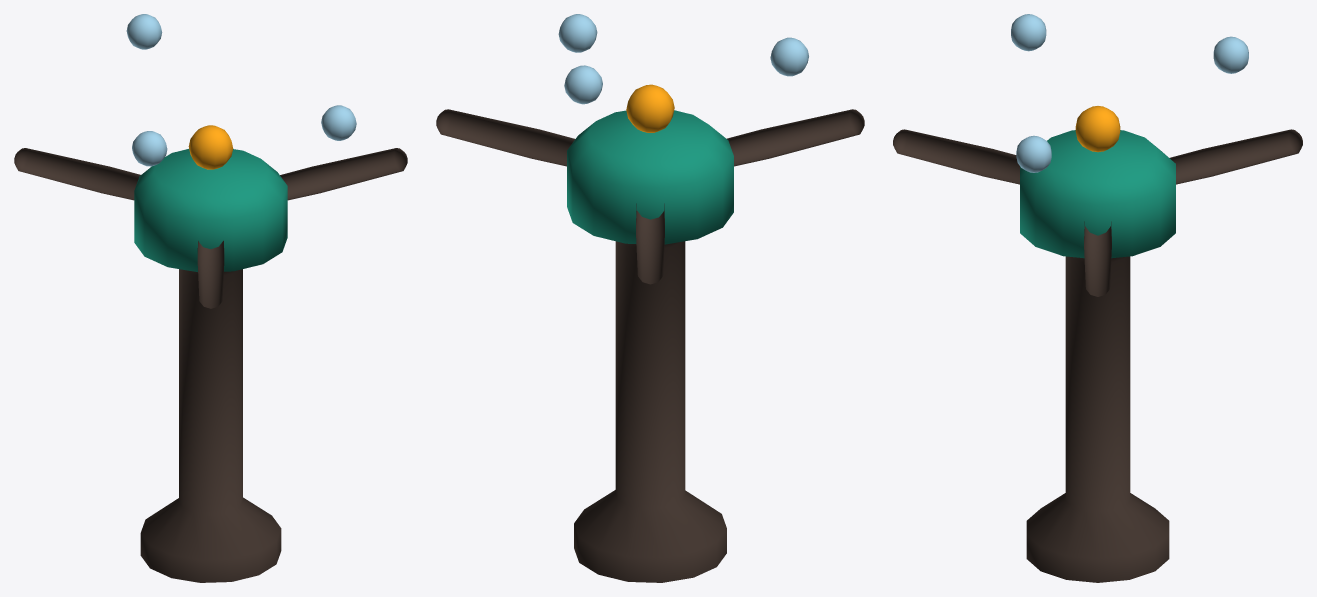
File: sprinkler.glb
3 views of the same model, side by side, from view 1: azimuth 30°, elevation 25°; view 2: azimuth 150°, elevation 25°; view 3: azimuth 270°, elevation 25° (orthographic). The views are drawn at different scales.
Parts seen in each view (by area): view 1: Sprinkler, SprinklerArme; view 2: Sprinkler, SprinklerArme; view 3: Sprinkler, SprinklerArme.
Part boxes in pixels (x1=…): Sprinkler: x1=126, y1=14, x2=356, y2=582; SprinklerArme: x1=14, y1=148, x2=407, y2=308; Sprinkler: x1=558, y1=14, x2=808, y2=582; SprinklerArme: x1=436, y1=109, x2=864, y2=284; Sprinkler: x1=1011, y1=14, x2=1248, y2=582; SprinklerArme: x1=893, y1=129, x2=1302, y2=296.
Size of the model in its own units: 0.5508 by 0.848 by 0.615.
2 materials, 2 textured.
